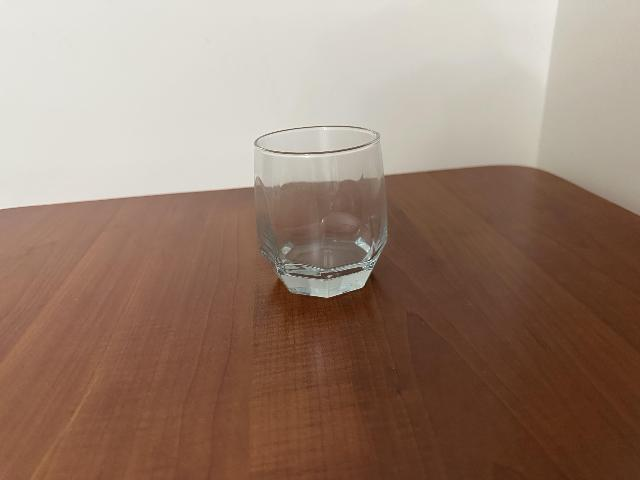Cam: (251, 124, 390, 302)
